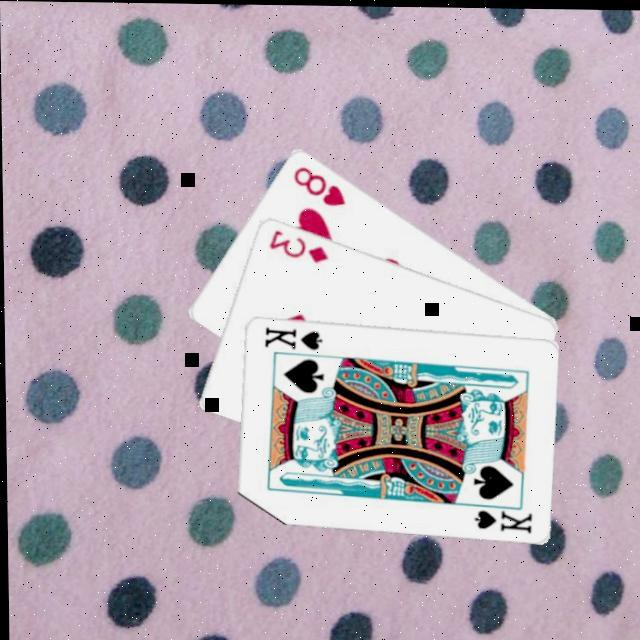3D: (267, 226, 332, 267)
8H: (291, 162, 351, 209)
KS: (466, 499, 534, 535), (261, 323, 325, 353)
